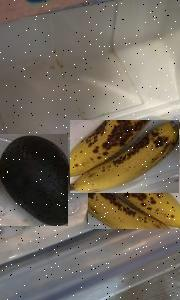Aguacate: (0, 134, 68, 226)
Plátano: (88, 135, 180, 229), (70, 120, 179, 193)
